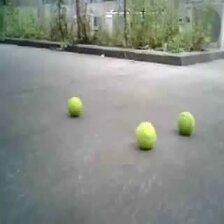tennis: (134, 121, 156, 149), (176, 111, 195, 134), (67, 96, 82, 115)
